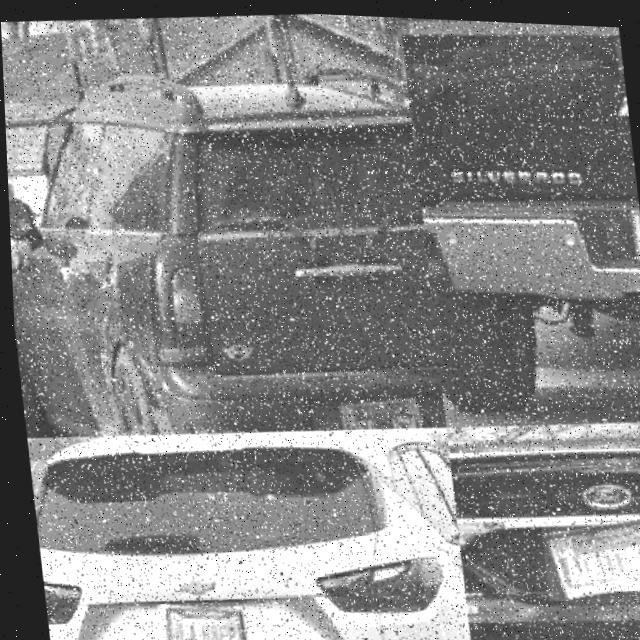LicensePlate: (538, 512, 640, 595), (154, 602, 234, 640), (327, 392, 412, 426)
